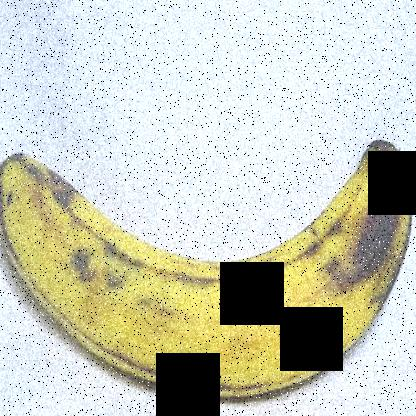ripe: (1, 120, 413, 416)
